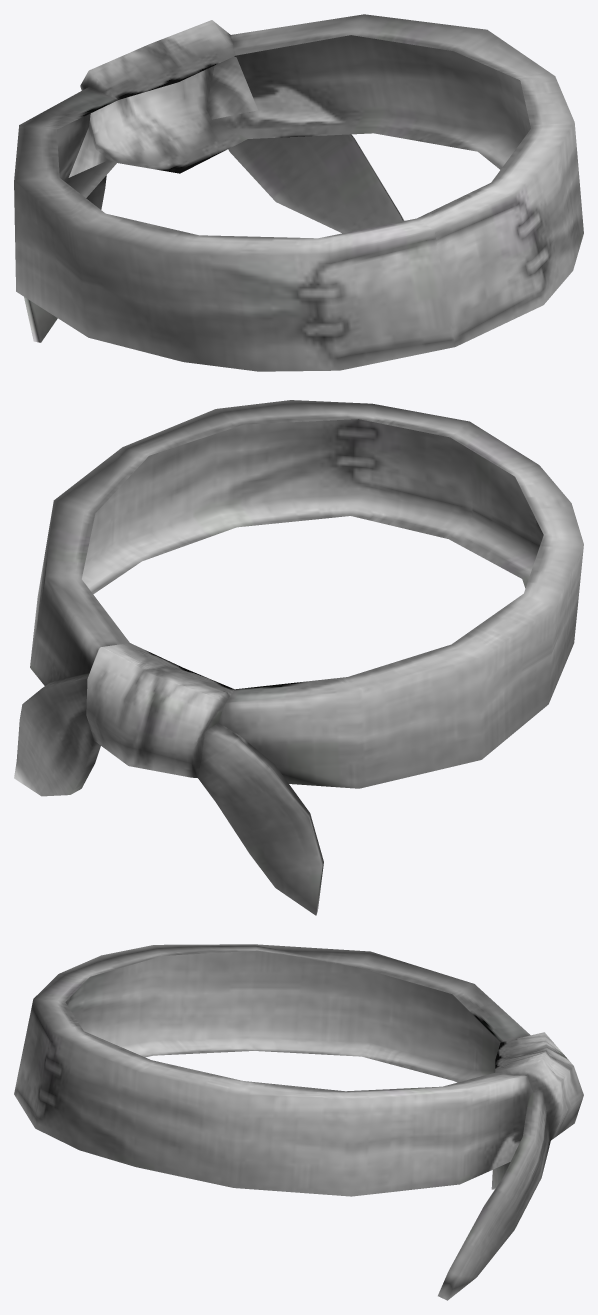
The model's file is helmet-base.glb.
The picture shows the model from 3 angles, top to bottom: view 1: azimuth 30°, elevation 25°; view 2: azimuth 150°, elevation 25°; view 3: azimuth 270°, elevation 25°; orthographic projection. The views are drawn at different scales.
Bounding box in the file's own units: 0.2195 × 0.1281 × 0.2676.
1 material, 1 textured.
